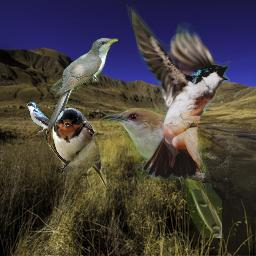Cuckoo: (101, 108, 222, 238), (48, 38, 118, 129)
Swallow: (125, 3, 231, 179), (46, 108, 108, 189), (25, 102, 67, 137)
